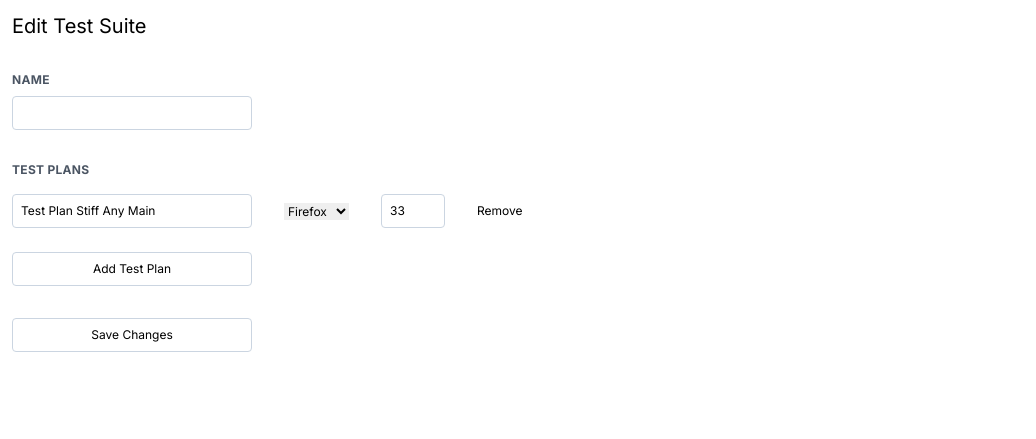
Scenario: ListTestSuitesRoute › requires a name for the suite.
Click the button "Save Changes". click: (132, 335)
box: 12,318 -> 252,352
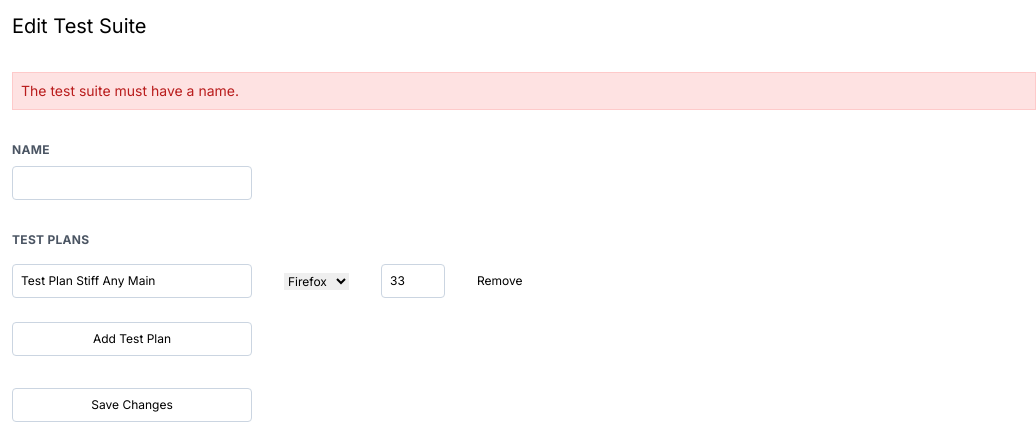
Result: the text with test id "error-message" reads "The test suite must have a name." at 21,82 -> 239,99
